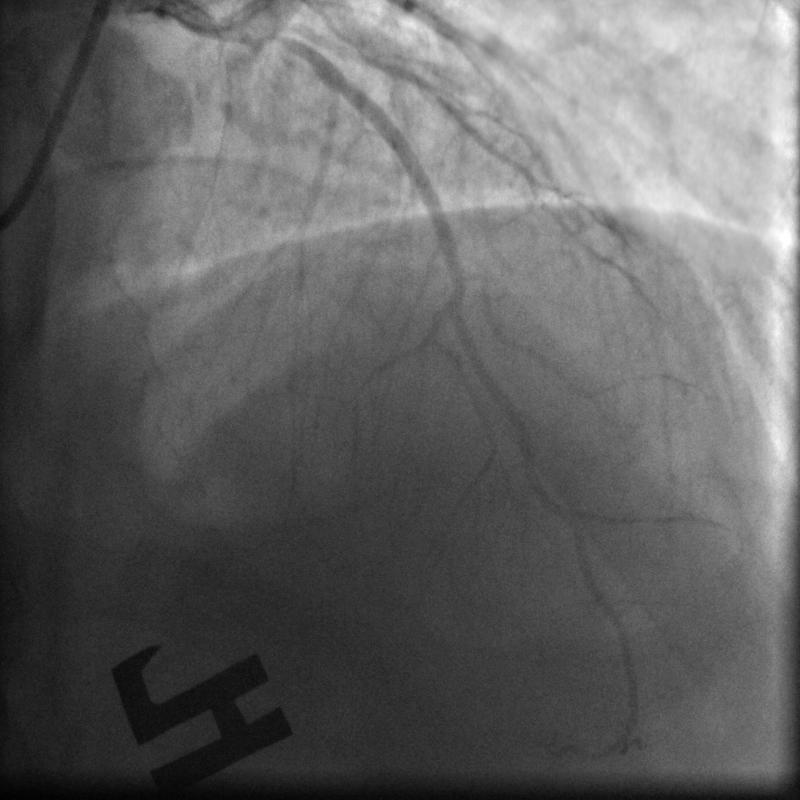Stenosis: (230, 23, 292, 53)
